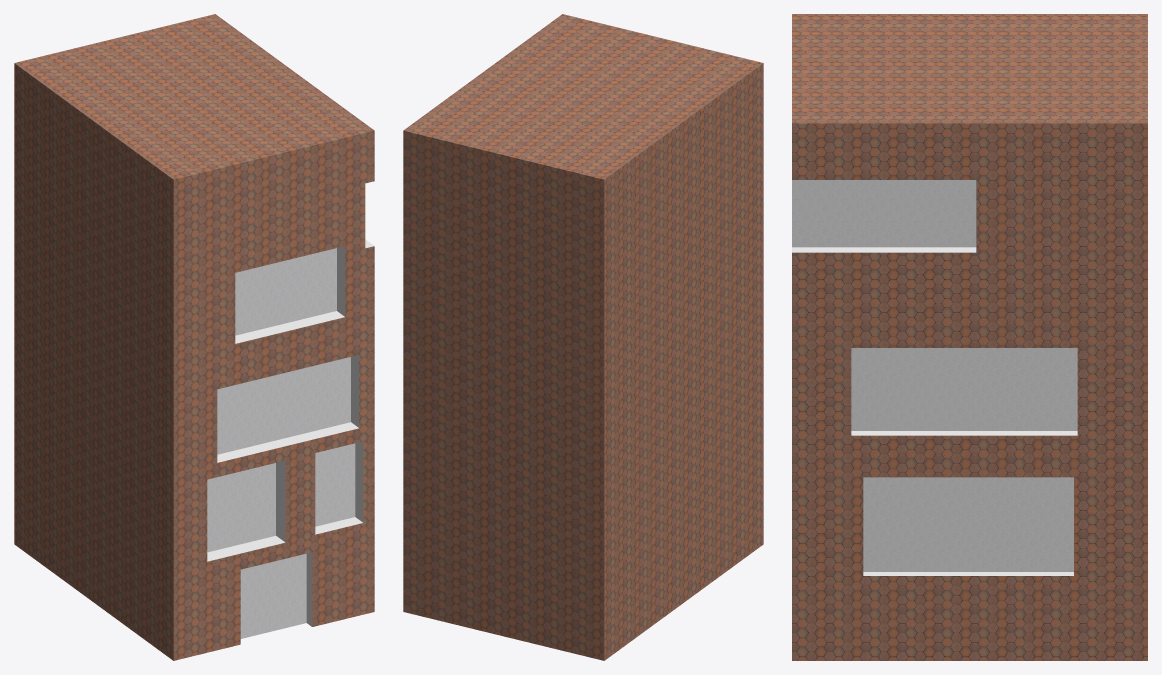
Rendered from building9.obj.
3 renders of one model, left to right at view 1: azimuth 30°, elevation 25°; view 2: azimuth 150°, elevation 25°; view 3: azimuth 270°, elevation 25°, orthographic. The views are drawn at different scales.
Parts seen in each view (by area): view 1: SketchUp_ID33, SketchUp.003_ID67, SketchUp.001_ID46, SketchUp.005_ID81, SketchUp.009_ID109, SketchUp.007_ID95, SketchUp.004_ID75, SketchUp.002_ID59, SketchUp.006_ID89, SketchUp.008_ID103; view 2: SketchUp_ID33; view 3: SketchUp_ID33, SketchUp.011_ID123, SketchUp.013_ID137, SketchUp.015_ID151, SketchUp.014_ID145, SketchUp.016_ID159, SketchUp.012_ID131.
Part boxes in pixels (<box>): SketchUp_ID33: <box>14,14,374,660</box>; SketchUp.003_ID67: <box>217,357,350,454</box>; SketchUp.001_ID46: <box>235,248,336,335</box>; SketchUp.005_ID81: <box>207,463,275,552</box>; SketchUp.009_ID109: <box>240,553,306,638</box>; SketchUp.007_ID95: <box>315,443,355,526</box>; SketchUp.004_ID75: <box>217,355,359,462</box>; SketchUp.002_ID59: <box>235,246,345,343</box>; SketchUp.006_ID89: <box>207,460,285,561</box>; SketchUp.008_ID103: <box>315,441,363,534</box>; SketchUp_ID33: <box>403,14,763,660</box>; SketchUp_ID33: <box>792,14,1147,660</box>; SketchUp.011_ID123: <box>863,477,1073,571</box>; SketchUp.013_ID137: <box>851,348,1077,430</box>; SketchUp.015_ID151: <box>792,180,976,247</box>; SketchUp.014_ID145: <box>851,431,1077,435</box>; SketchUp.016_ID159: <box>792,247,976,252</box>; SketchUp.012_ID131: <box>863,572,1073,575</box>.
Size of the model in its own units: 6.55 by 14.97 by 8.99.
